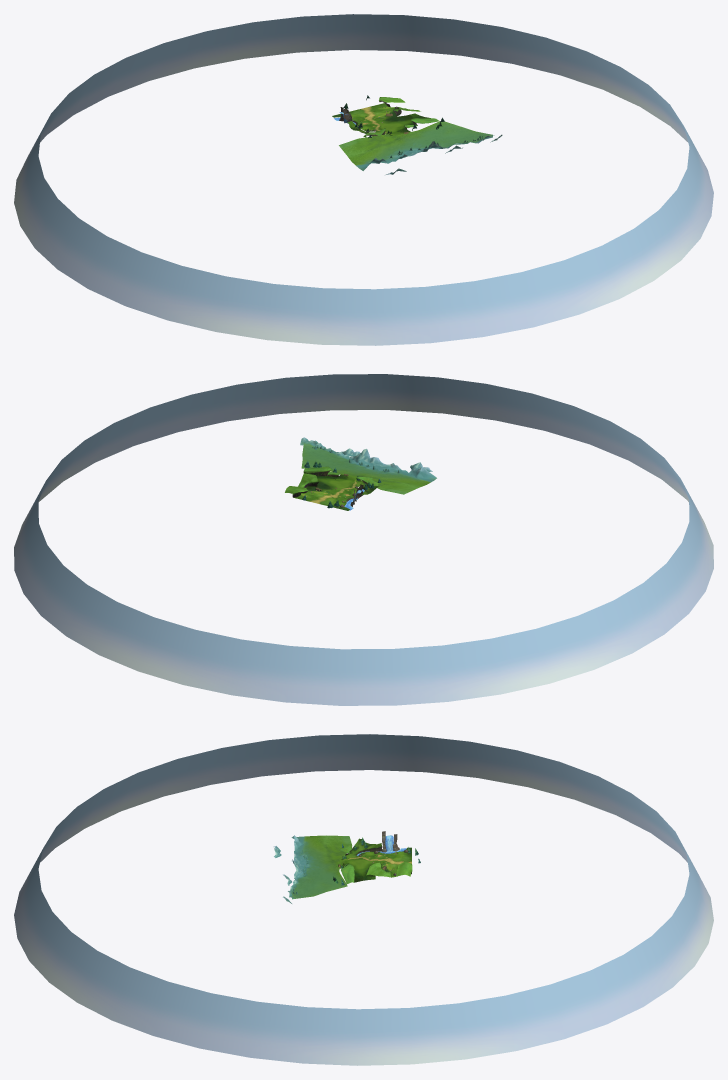
Rendered from SM_PVE_Earth_Scene5.fbx.
3 views of the same model, one above another, from view 1: azimuth 30°, elevation 25°; view 2: azimuth 150°, elevation 25°; view 3: azimuth 270°, elevation 25° (orthographic).
Visible parts, largest first — view 1: SM_SkyDome, BG1, Grass1; view 2: SM_SkyDome, BG1, Grass1, CliffsFG; view 3: SM_SkyDome, BG1, Grass1, CliffsFG.
Boxes of the visible parts, x1,y1,x2,y2 form: SM_SkyDome: [14, 14, 713, 345]; BG1: [339, 121, 502, 174]; Grass1: [332, 103, 430, 136]; SM_SkyDome: [14, 374, 713, 705]; BG1: [300, 437, 436, 494]; Grass1: [294, 471, 379, 510]; CliffsFG: [285, 473, 365, 506]; SM_SkyDome: [14, 734, 713, 1065]; BG1: [273, 835, 352, 903]; Grass1: [339, 838, 411, 882]; CliffsFG: [356, 831, 412, 877].
Size of the model in its own units: 466 by 60.99 by 466.
